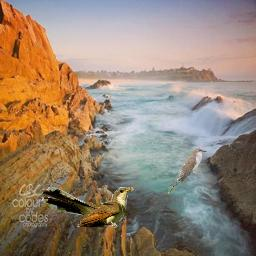Cuckoo: (41, 187, 134, 228), (168, 148, 207, 194)
